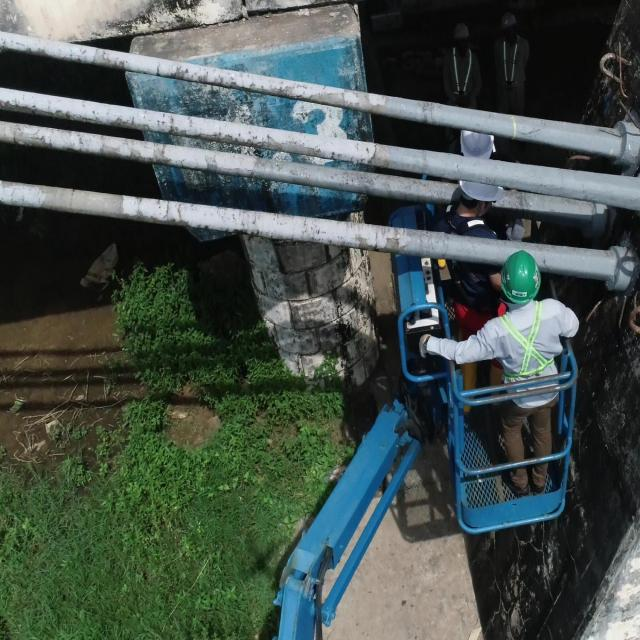crack: (162, 201, 170, 218), (429, 102, 434, 124), (70, 189, 75, 206), (178, 204, 182, 221), (374, 234, 378, 248), (13, 134, 18, 144), (156, 65, 160, 75), (331, 151, 335, 160), (180, 159, 185, 166), (350, 155, 354, 163), (131, 117, 134, 125), (361, 158, 365, 164), (254, 212, 256, 224), (184, 129, 187, 136), (217, 208, 219, 214)
